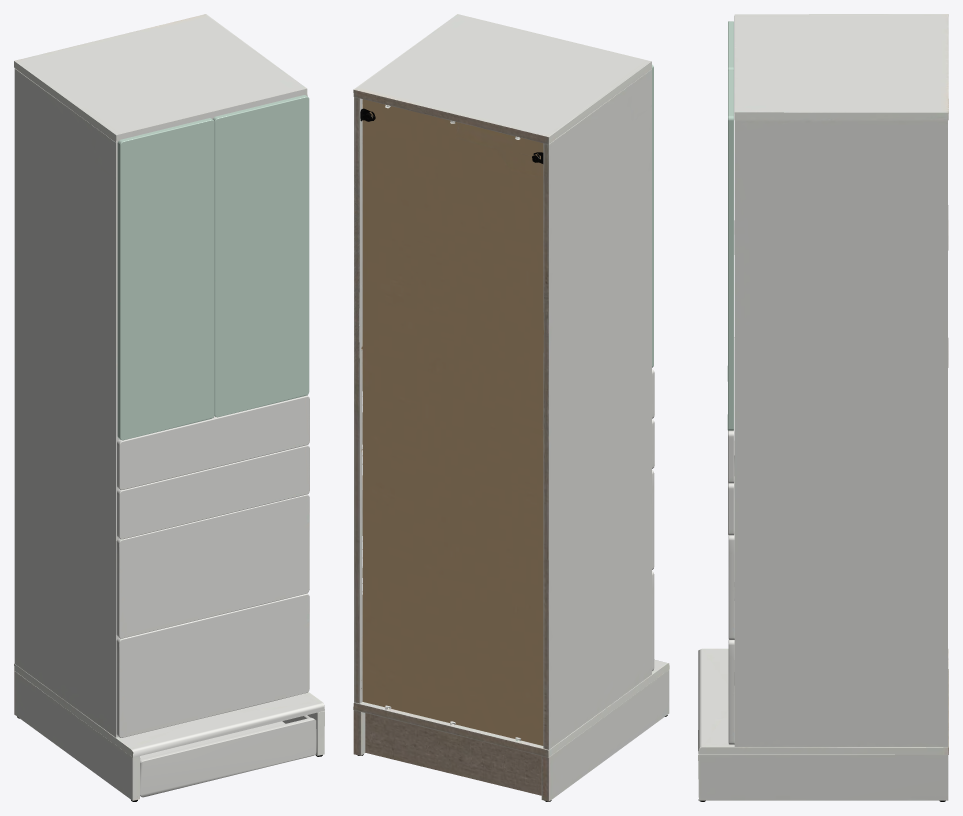
Rendered from 13 - SMÅSTAD PLATSA Wardrobe - white light greenwith 4 drawers 60x57x181 cm.glb.
The picture shows the model from 3 angles, left to right: view 1: azimuth 30°, elevation 25°; view 2: azimuth 150°, elevation 25°; view 3: azimuth 270°, elevation 25°; orthographic projection. The views are drawn at different scales.
Visible parts, largest first — view 1: 90576502-UPPFÃƒâ€“RA001, 60572930-SMÃƒâ€¦STAD001.001, 60572930-SMÃƒâ€¦STAD001, model.001, model.002, model.003, model, ProcessedMeshNode; view 2: 90576502-UPPFÃƒâ€“RA001, 60572930-SMÃƒâ€¦STAD001.001; view 3: 90576502-UPPFÃƒâ€“RA001, 60572930-SMÃƒâ€¦STAD001, model.002, model.001, model.003.
Part boxes in pixels (x1=…): 90576502-UPPFÃƒâ€“RA001: x1=14, y1=14, x2=324, y2=801; 60572930-SMÃƒâ€¦STAD001.001: x1=117, y1=118, x2=214, y2=440; 60572930-SMÃƒâ€¦STAD001: x1=212, y1=95, x2=309, y2=417; model.001: x1=116, y1=593, x2=309, y2=737; model.002: x1=116, y1=494, x2=309, y2=638; model.003: x1=117, y1=395, x2=309, y2=489; model: x1=117, y1=445, x2=309, y2=539; ProcessedMeshNode: x1=140, y1=715, x2=316, y2=797; 90576502-UPPFÃƒâ€“RA001: x1=353, y1=14, x2=669, y2=801; 60572930-SMÃƒâ€¦STAD001.001: x1=652, y1=64, x2=653, y2=367; 90576502-UPPFÃƒâ€“RA001: x1=698, y1=14, x2=948, y2=801; 60572930-SMÃƒâ€¦STAD001: x1=727, y1=70, x2=733, y2=430; model.002: x1=728, y1=441, x2=734, y2=639; model.001: x1=728, y1=640, x2=734, y2=744; model.003: x1=728, y1=337, x2=734, y2=483.
Bounding box in the file's own units: 0.6021 × 1.96 × 0.6461.
5 materials, 5 textured.
